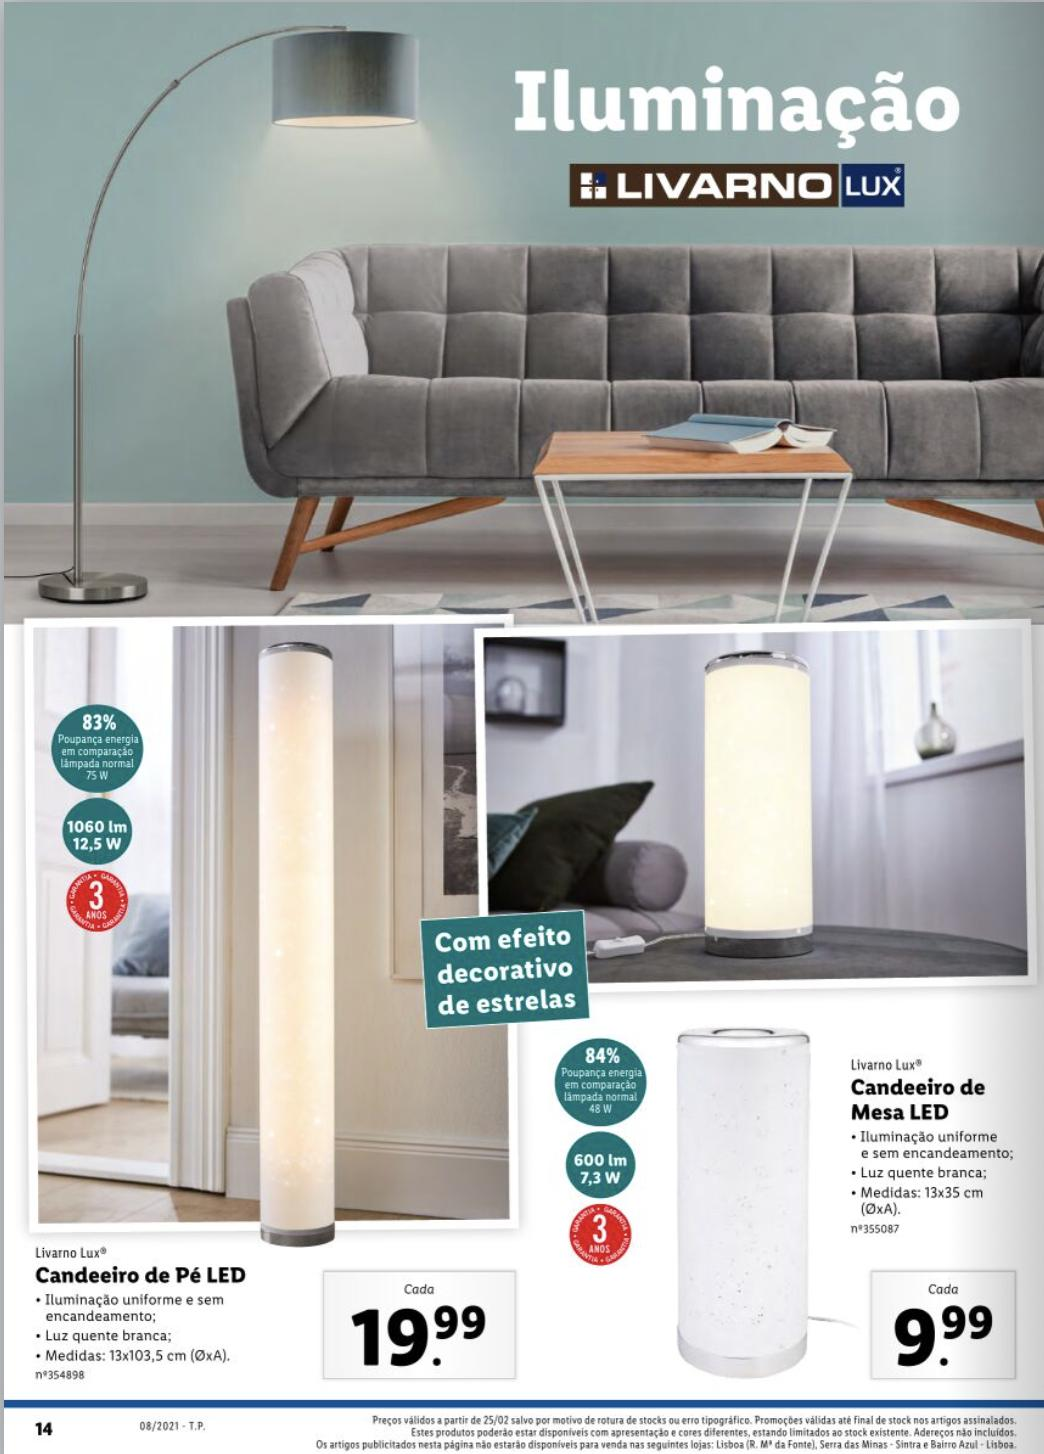name: (845, 1079, 989, 1125), (34, 1262, 256, 1291)
price: (349, 1300, 486, 1370), (885, 1302, 991, 1368)
product: (1, 622, 532, 1391), (536, 999, 1043, 1390)
